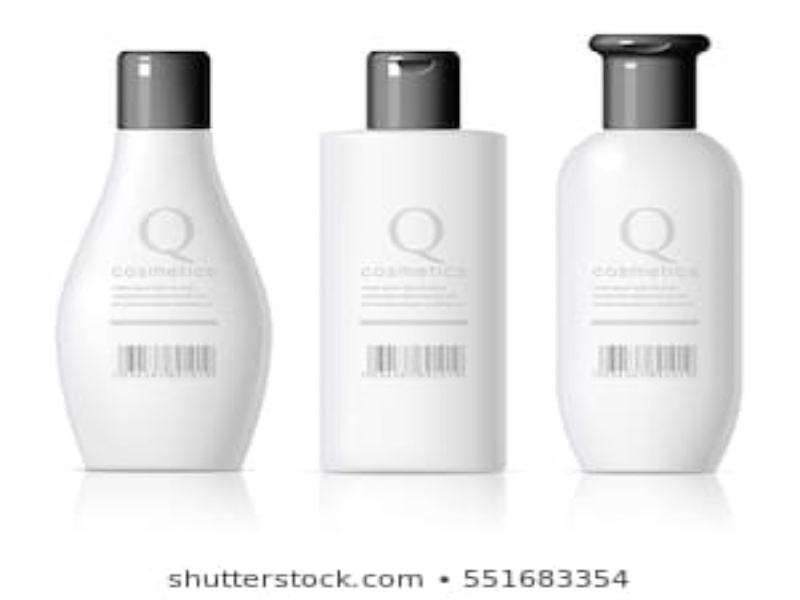shampoo-bottle: (53, 49, 270, 472), (315, 48, 522, 479), (551, 31, 746, 472)
